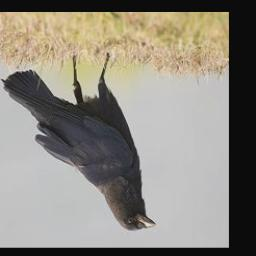Crow: (2, 52, 158, 233)
